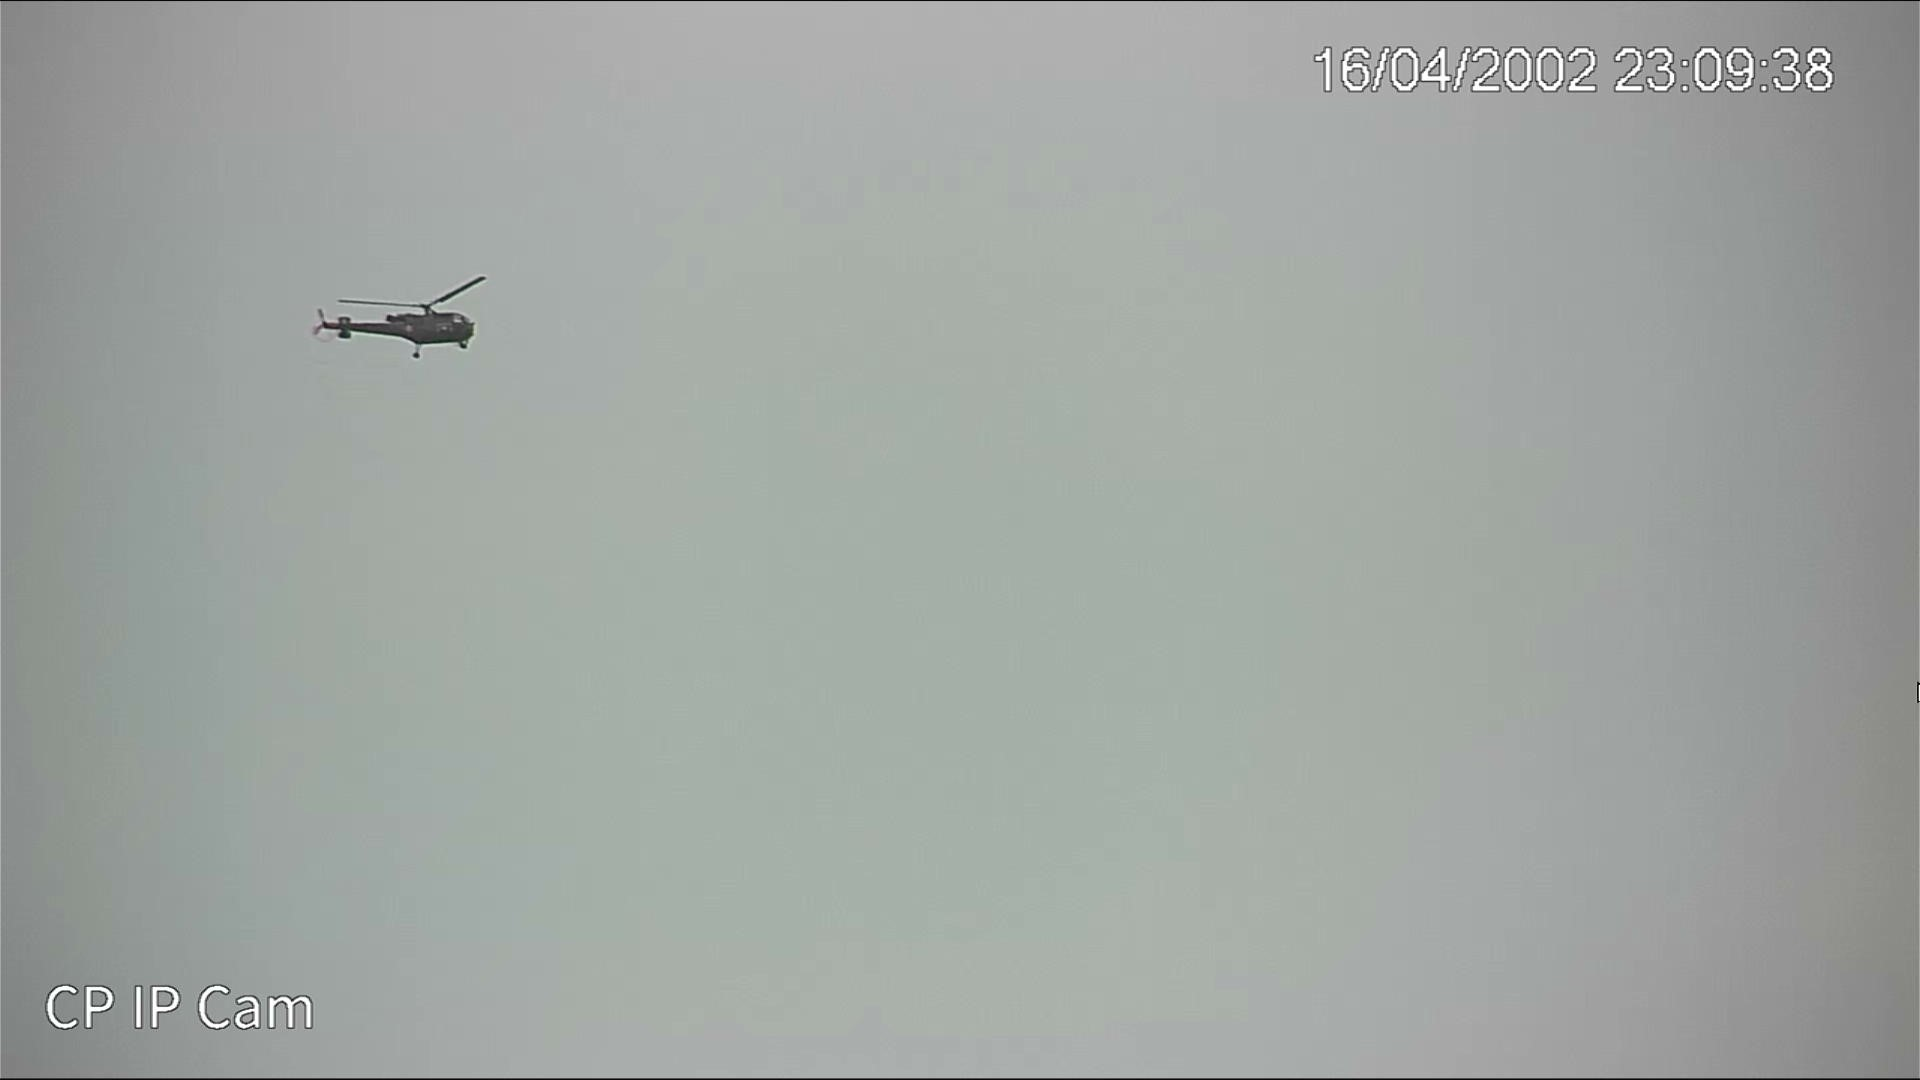SU_30: (305, 291, 475, 364)
